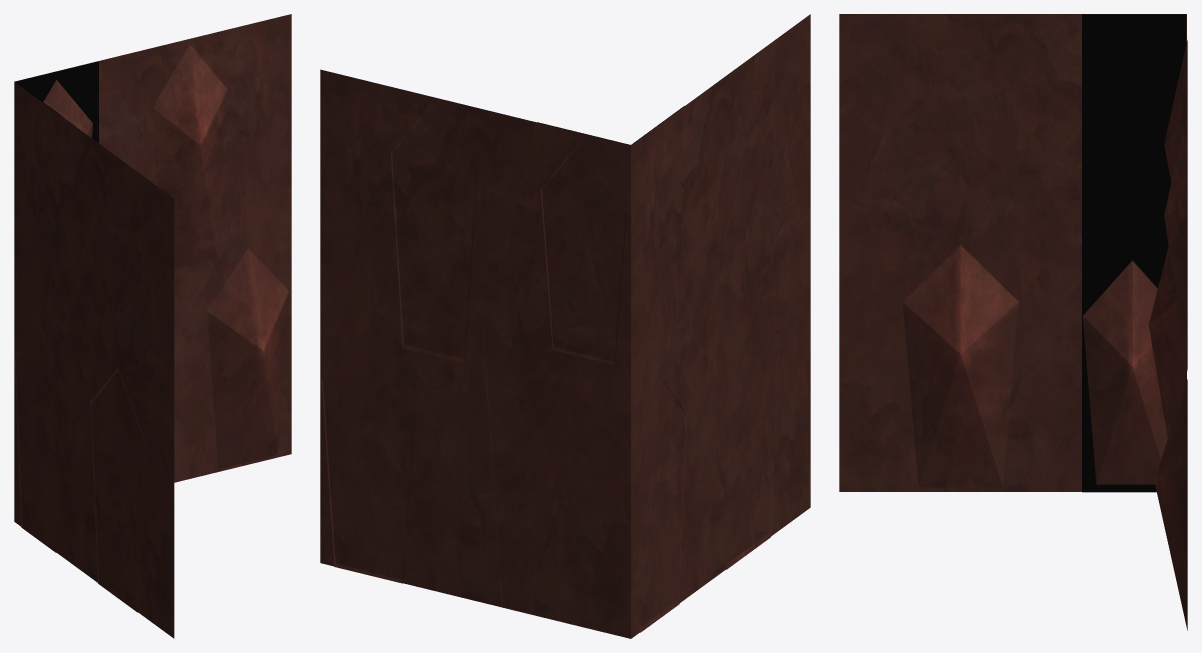
Rendered from lava_wall_concave_01.fbx.
The picture shows the model from 3 angles, left to right: view 1: azimuth 30°, elevation 25°; view 2: azimuth 150°, elevation 25°; view 3: azimuth 270°, elevation 25°; orthographic projection. The views are drawn at different scales.
Visible parts, largest first — view 1: obj2; view 2: obj2; view 3: obj2.
Boxes of the visible parts, x1,y1,x2,y2 form: obj2: (14, 14, 291, 638); obj2: (320, 14, 810, 638); obj2: (839, 14, 1187, 630).
Bounding box in the file's own units: 3.63 × 5.5 × 3.63.
